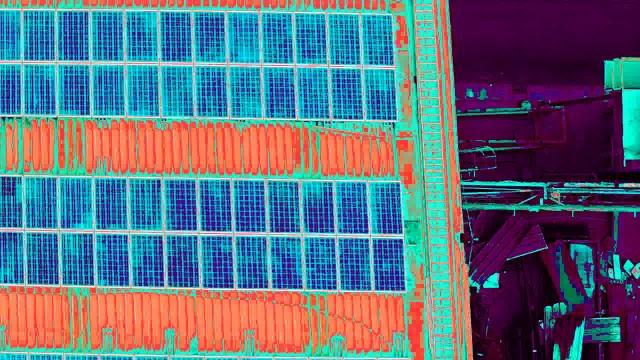semi: (22, 10, 56, 61), (56, 10, 90, 61), (90, 11, 124, 62), (125, 10, 159, 61), (157, 12, 191, 63), (191, 12, 225, 63), (225, 12, 259, 63), (259, 13, 293, 64), (293, 13, 327, 64), (327, 13, 361, 64), (360, 14, 394, 65), (361, 68, 395, 119), (330, 68, 364, 119), (296, 68, 330, 119), (261, 67, 295, 118), (228, 65, 262, 116), (194, 66, 228, 117), (159, 65, 193, 116), (124, 63, 158, 114), (91, 64, 125, 115), (56, 64, 90, 115), (21, 63, 55, 114), (21, 177, 55, 228), (57, 178, 91, 229), (92, 177, 126, 228), (127, 177, 161, 228), (162, 179, 196, 230), (197, 180, 231, 231), (232, 180, 266, 231), (265, 181, 299, 232), (301, 181, 335, 232), (333, 182, 367, 233), (368, 183, 402, 234), (371, 238, 405, 289), (337, 237, 371, 288), (302, 237, 336, 288), (268, 235, 302, 286), (234, 236, 268, 287), (198, 235, 232, 286), (163, 235, 197, 286), (131, 234, 165, 285), (94, 233, 128, 284), (59, 232, 93, 283), (24, 232, 58, 283)
